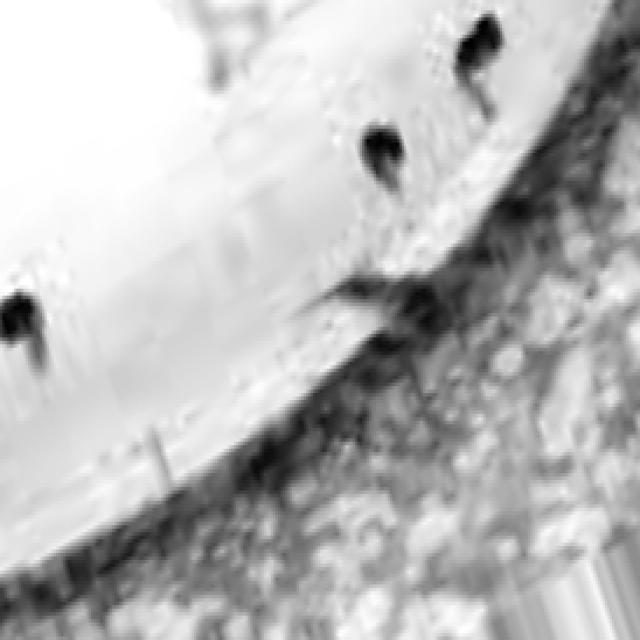larvas: (452, 12, 503, 106), (2, 285, 45, 354), (362, 122, 402, 185)
